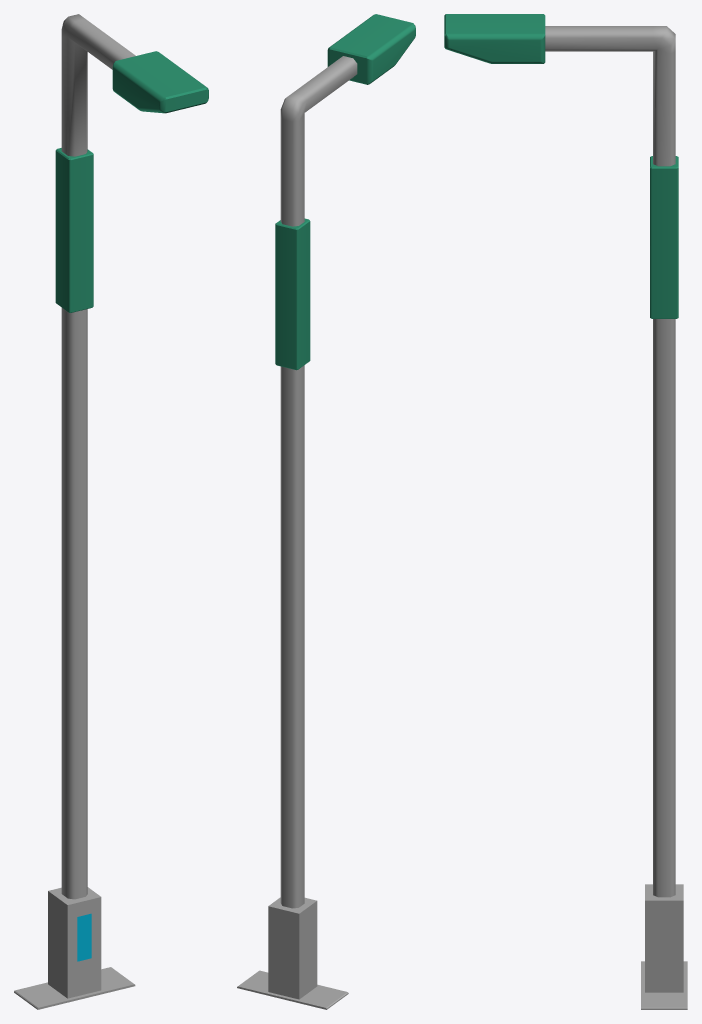
File: Lights.fbx
3 views of the same model, side by side, from view 1: azimuth 30°, elevation 25°; view 2: azimuth 150°, elevation 25°; view 3: azimuth 270°, elevation 25° (orthographic). The views are drawn at different scales.
Visible parts, largest first — view 1: lightPole_lod0, lightPoleMini_lod0; view 2: lightPole_lod0, lightPoleMini_lod0; view 3: lightPole_lod0, lightPoleMini_lod0.
Boxes of the visible parts, x1,y1,x2,y2 form: lightPole_lod0: [14, 14, 208, 1009]; lightPoleMini_lod0: [48, 887, 101, 998]; lightPole_lod0: [237, 14, 415, 1009]; lightPoleMini_lod0: [268, 897, 317, 999]; lightPole_lod0: [444, 14, 687, 1009]; lightPoleMini_lod0: [645, 884, 683, 992].
Size of what is drawn, in the model's own units: 0.6754 by 6.46 by 1.48.
